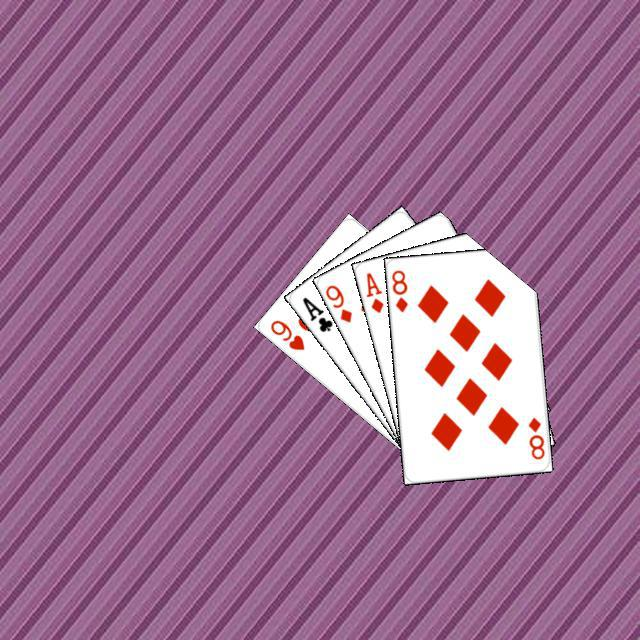8d: (523, 413, 546, 461), (387, 265, 409, 314)
9d: (320, 280, 354, 325)
9h: (265, 315, 306, 352)
Ac: (297, 292, 335, 334)
Ad: (361, 267, 385, 315)
